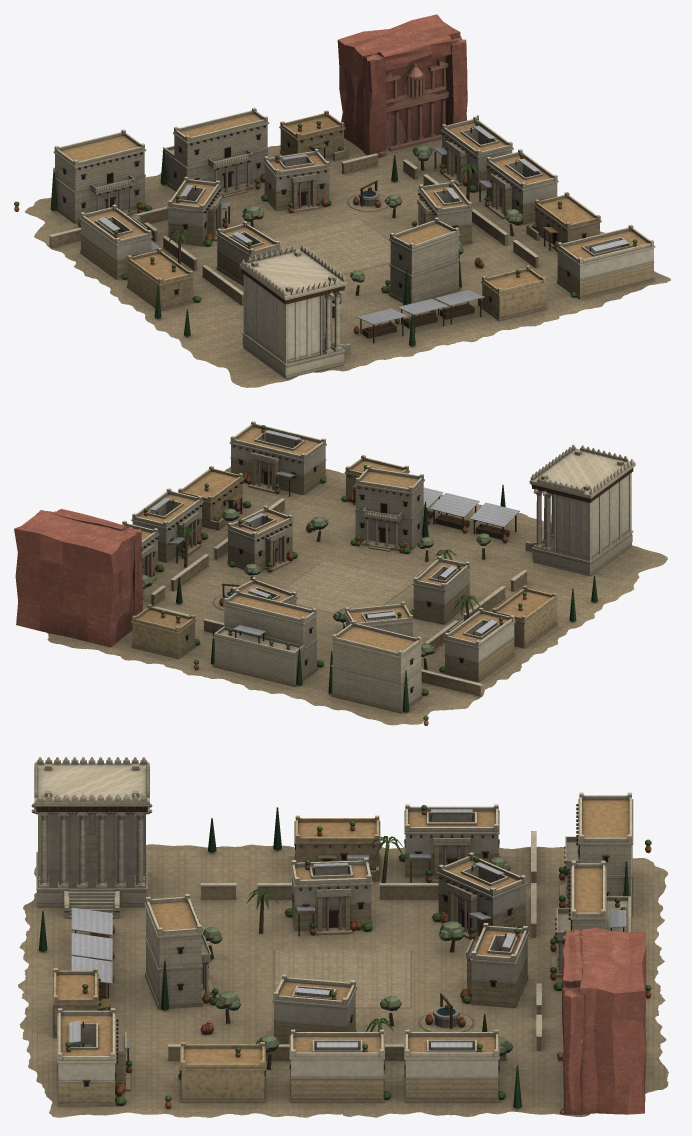
Rendered from classical-town-medium-b-levant.glb.
3 views of the same model, one above another, from view 1: azimuth 30°, elevation 25°; view 2: azimuth 150°, elevation 25°; view 3: azimuth 270°, elevation 25° (orthographic). The views are drawn at different scales.
Visible parts, largest first — view 1: LOD0; view 2: LOD0; view 3: LOD0.
Part boxes in pixels (x1,y1,x2,y2): LOD0: (14,14,670,387); LOD0: (14,421,667,725); LOD0: (18,757,668,1117).
Size of what is drawn, in the model's own units: 6.03 by 1.3 by 6.09.
Materials: 3 (3 with a texture image).
